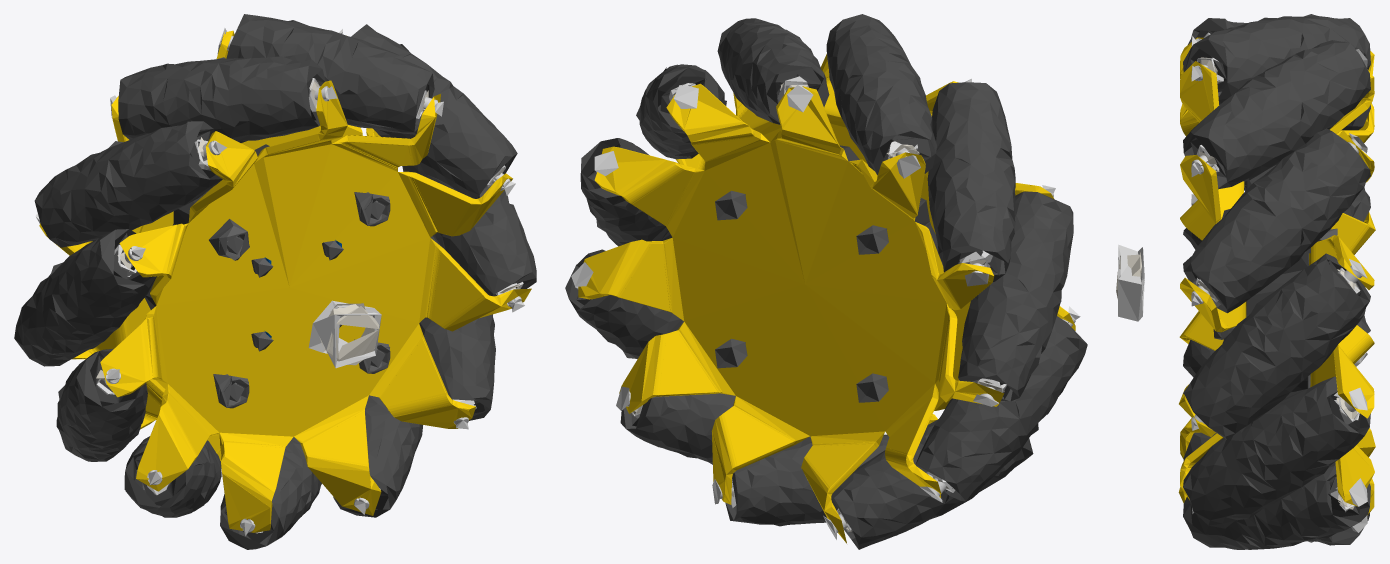
File: wheelBL.glb
3 views of the same model, side by side, from view 1: azimuth 30°, elevation 25°; view 2: azimuth 150°, elevation 25°; view 3: azimuth 270°, elevation 25° (orthographic).
Parts seen in each view (by area): view 1: wheelBL_3, wheelBL_0, wheelBL_2, wheelBL_1, wheelBL_4, wheelBL_5; view 2: wheelBL_3, wheelBL_0, wheelBL_2, wheelBL_4, wheelBL_1; view 3: wheelBL_0, wheelBL_3, wheelBL_2, wheelBL_4, wheelBL_5.
Part boxes in pixels (<box>): wheelBL_3: <box>39,30,531,532</box>; wheelBL_0: <box>14,14,536,549</box>; wheelBL_2: <box>35,28,524,535</box>; wheelBL_1: <box>209,192,390,408</box>; wheelBL_4: <box>90,78,532,542</box>; wheelBL_5: <box>96,80,519,533</box>; wheelBL_3: <box>578,54,1075,543</box>; wheelBL_0: <box>565,14,1087,549</box>; wheelBL_2: <box>571,76,1080,539</box>; wheelBL_4: <box>576,67,1010,533</box>; wheelBL_1: <box>715,190,888,402</box>; wheelBL_0: <box>1183,14,1370,549</box>; wheelBL_3: <box>1178,37,1375,515</box>; wheelBL_2: <box>1118,32,1367,532</box>; wheelBL_4: <box>1190,30,1361,516</box>; wheelBL_5: <box>1116,57,1357,509</box>.
Size of the model in its own units: 4.1 by 4.09 by 1.99.
